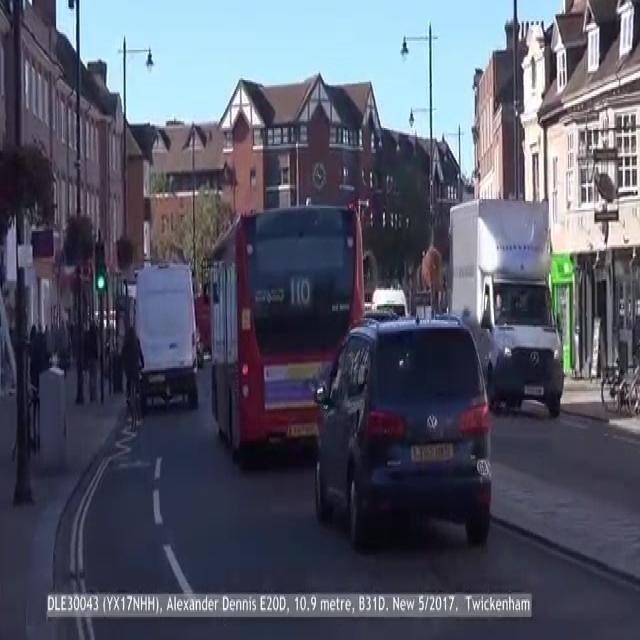Bus: (208, 215, 357, 450)
